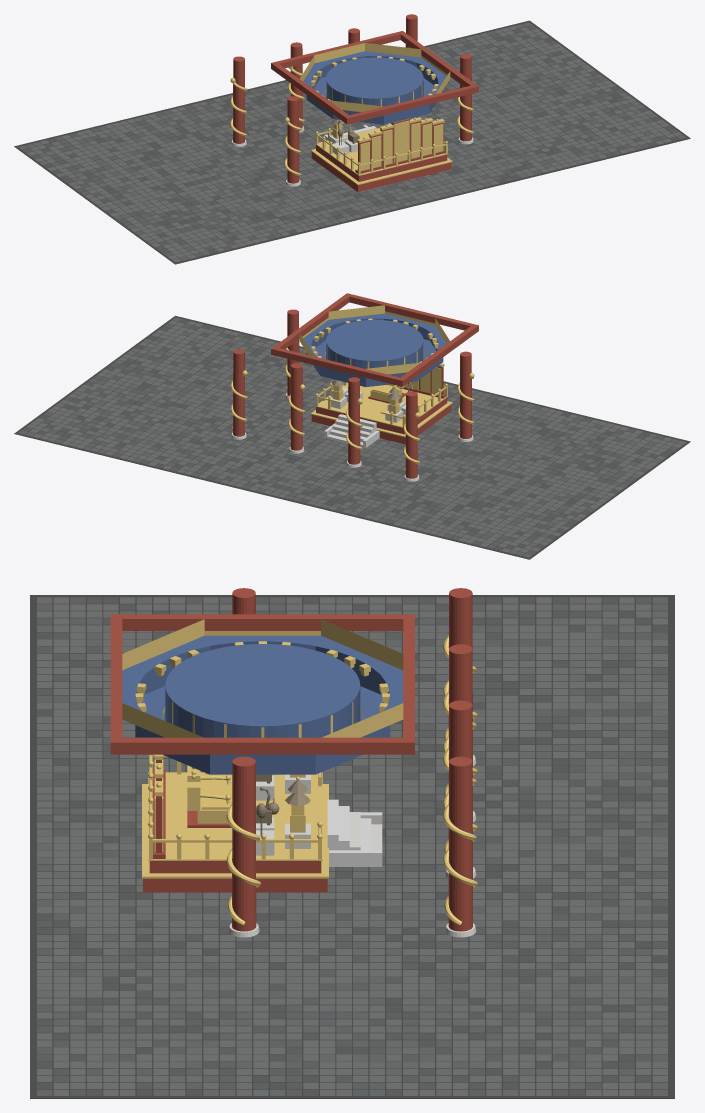
File: qianqing.glb
3 renders of one model, top to bottom at view 1: azimuth 30°, elevation 25°; view 2: azimuth 150°, elevation 25°; view 3: azimuth 270°, elevation 25°, orthographic. The views are drawn at different scales.
Visible parts, largest first — view 1: floor_tiles, floor_base, merged_red_lacquer, merged_gold_lacquer, merged_caisson_blue; view 2: floor_tiles, floor_base, merged_red_lacquer, merged_caisson_blue, merged_gold_lacquer, merged_white_marble; view 3: floor_tiles, floor_base, merged_red_lacquer, merged_caisson_blue, merged_gold_lacquer, merged_white_marble, merged_bronze, COL_step_side_1.
Boxes of the visible parts, x1,y1,x2,y2 form: floor_tiles: (18,22,686,262); floor_base: (14,20,690,264); merged_red_lacquer: (233,14,478,191); merged_gold_lacquer: (230,43,473,185); merged_caisson_blue: (303,51,446,124); floor_tiles: (18,317,686,557); floor_base: (14,315,690,559); merged_red_lacquer: (233,293,478,478); merged_caisson_blue: (303,313,446,386); merged_gold_lacquer: (230,305,474,470); merged_white_marble: (324,387,405,447); floor_tiles: (37,597,667,1095); floor_base: (30,595,674,1098); merged_red_lacquer: (110,588,472,931); merged_caisson_blue: (122,635,403,774); merged_gold_lacquer: (122,619,477,926); merged_white_marble: (256,774,382,855); merged_bronze: (256,774,310,836); COL_step_side_1: (329,850,382,866).
Bounding box in the file's own units: 45.8 × 7.24 × 24.8.
